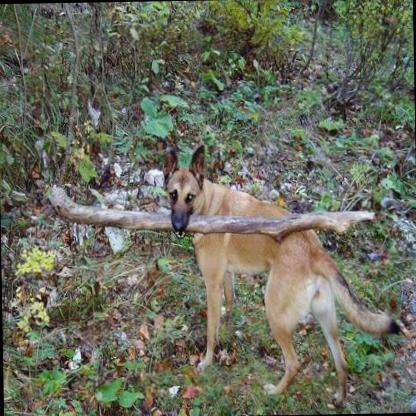malinois: (156, 135, 406, 402)
